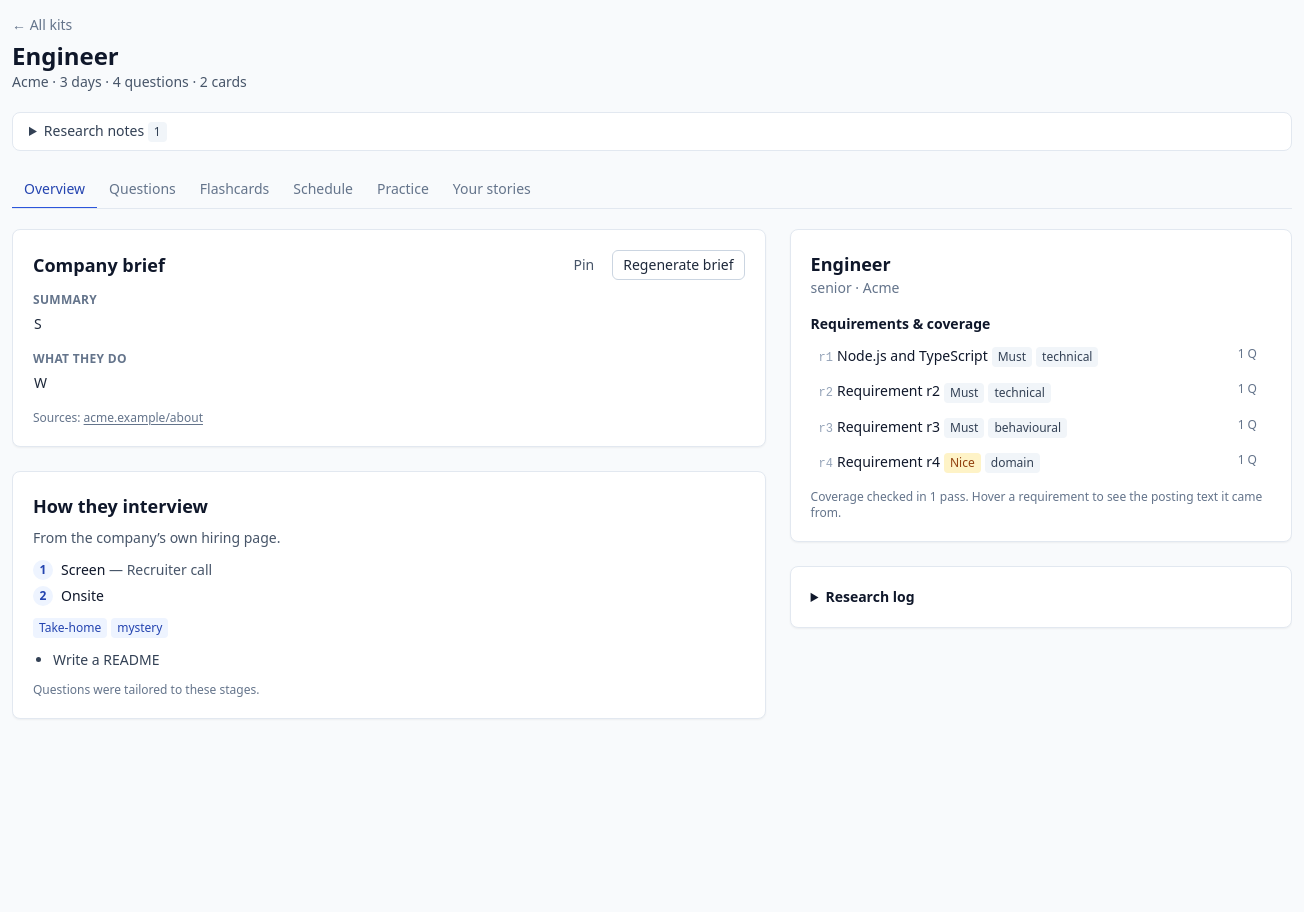
Test: KitWorkspace › wires every tab’s actions to the hook
Later steps or results of the test are not shown.
Click the button "Pin".
click(584, 265)  # box 564,251 -> 604,279
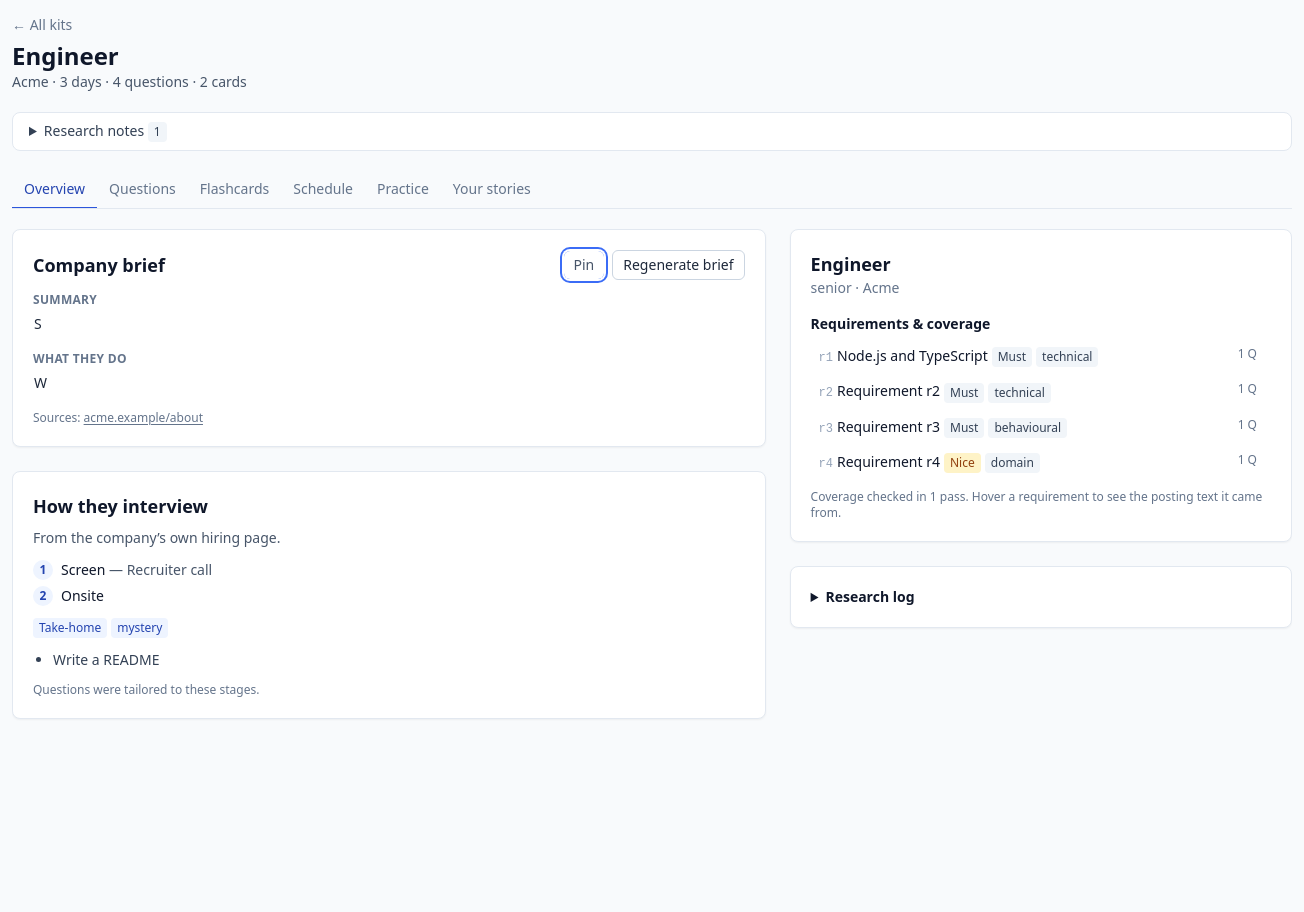
Click the button "1 Q" in the row of "r1".
click(1247, 354)  # box 1232,346 -> 1263,362
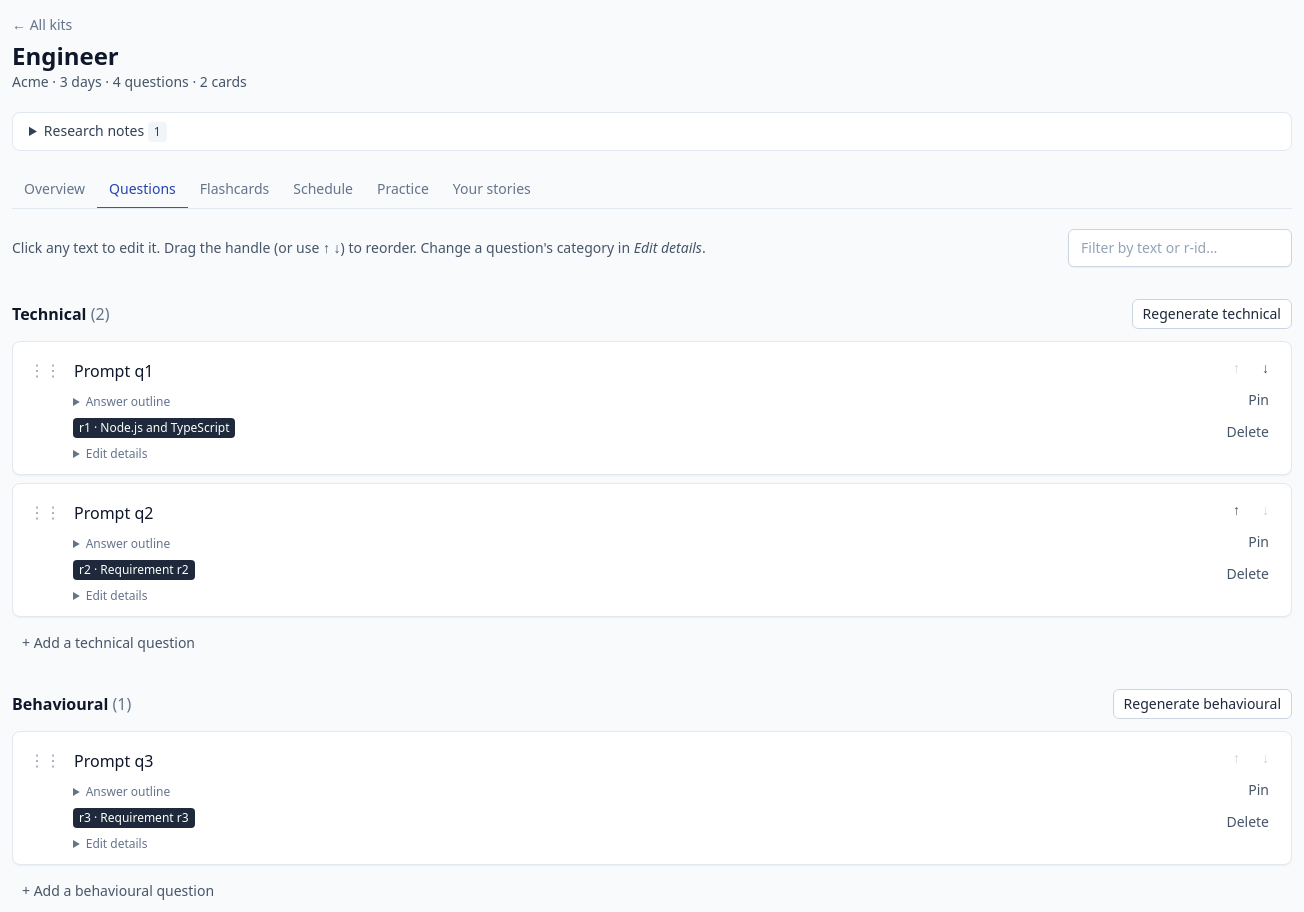
Result: the tab "Questions" is selected at 97,171 -> 188,209
